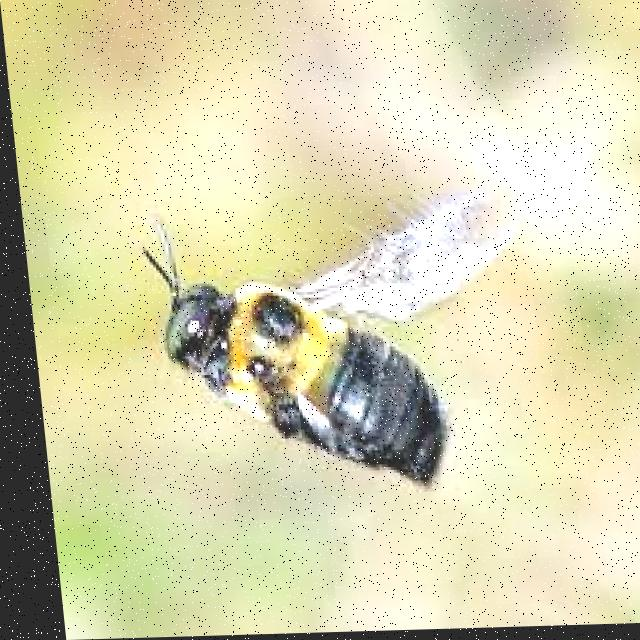Xylocopa: (117, 179, 527, 508)
